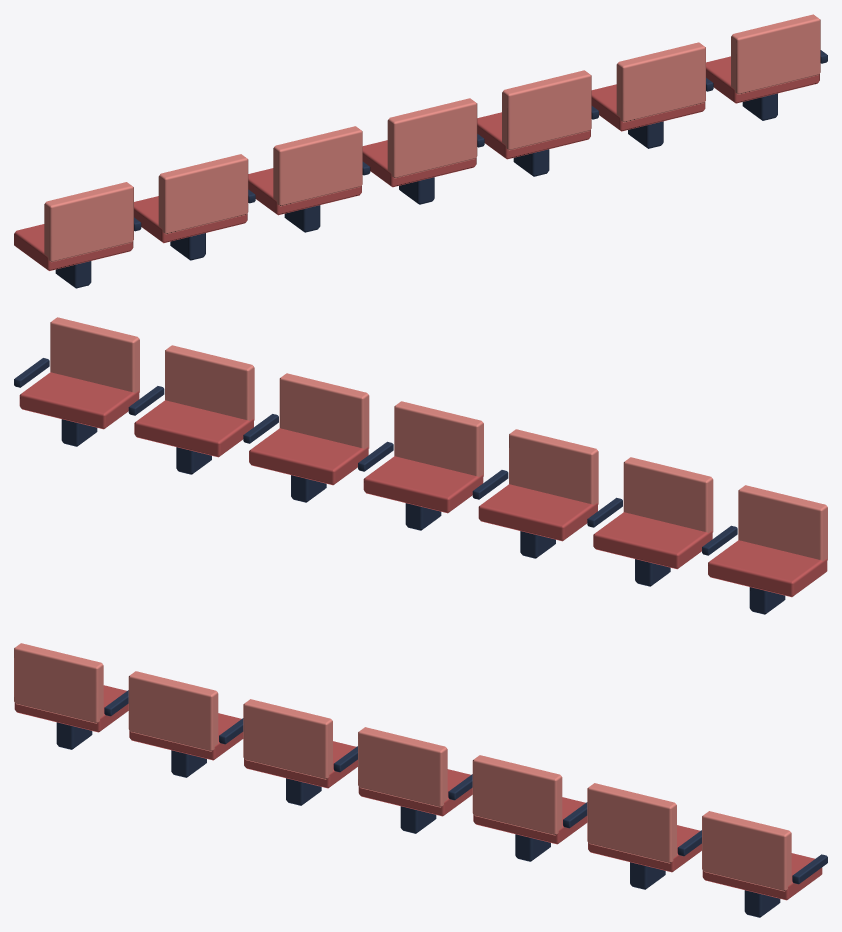
File: seat_row.glb
3 views of the same model, one above another, from view 1: azimuth 30°, elevation 25°; view 2: azimuth 150°, elevation 25°; view 3: azimuth 330°, elevation 25° (orthographic).
Parts seen in each view (by area): view 1: seat_row; view 2: seat_row; view 3: seat_row.
Boxes of the visible parts, x1=… form: seat_row: x1=14, y1=14, x2=827, y2=288; seat_row: x1=14, y1=317, x2=827, y2=614; seat_row: x1=14, y1=643, x2=827, y2=917.
Bounding box in the file's own units: 7.86 × 0.945 × 0.645.
